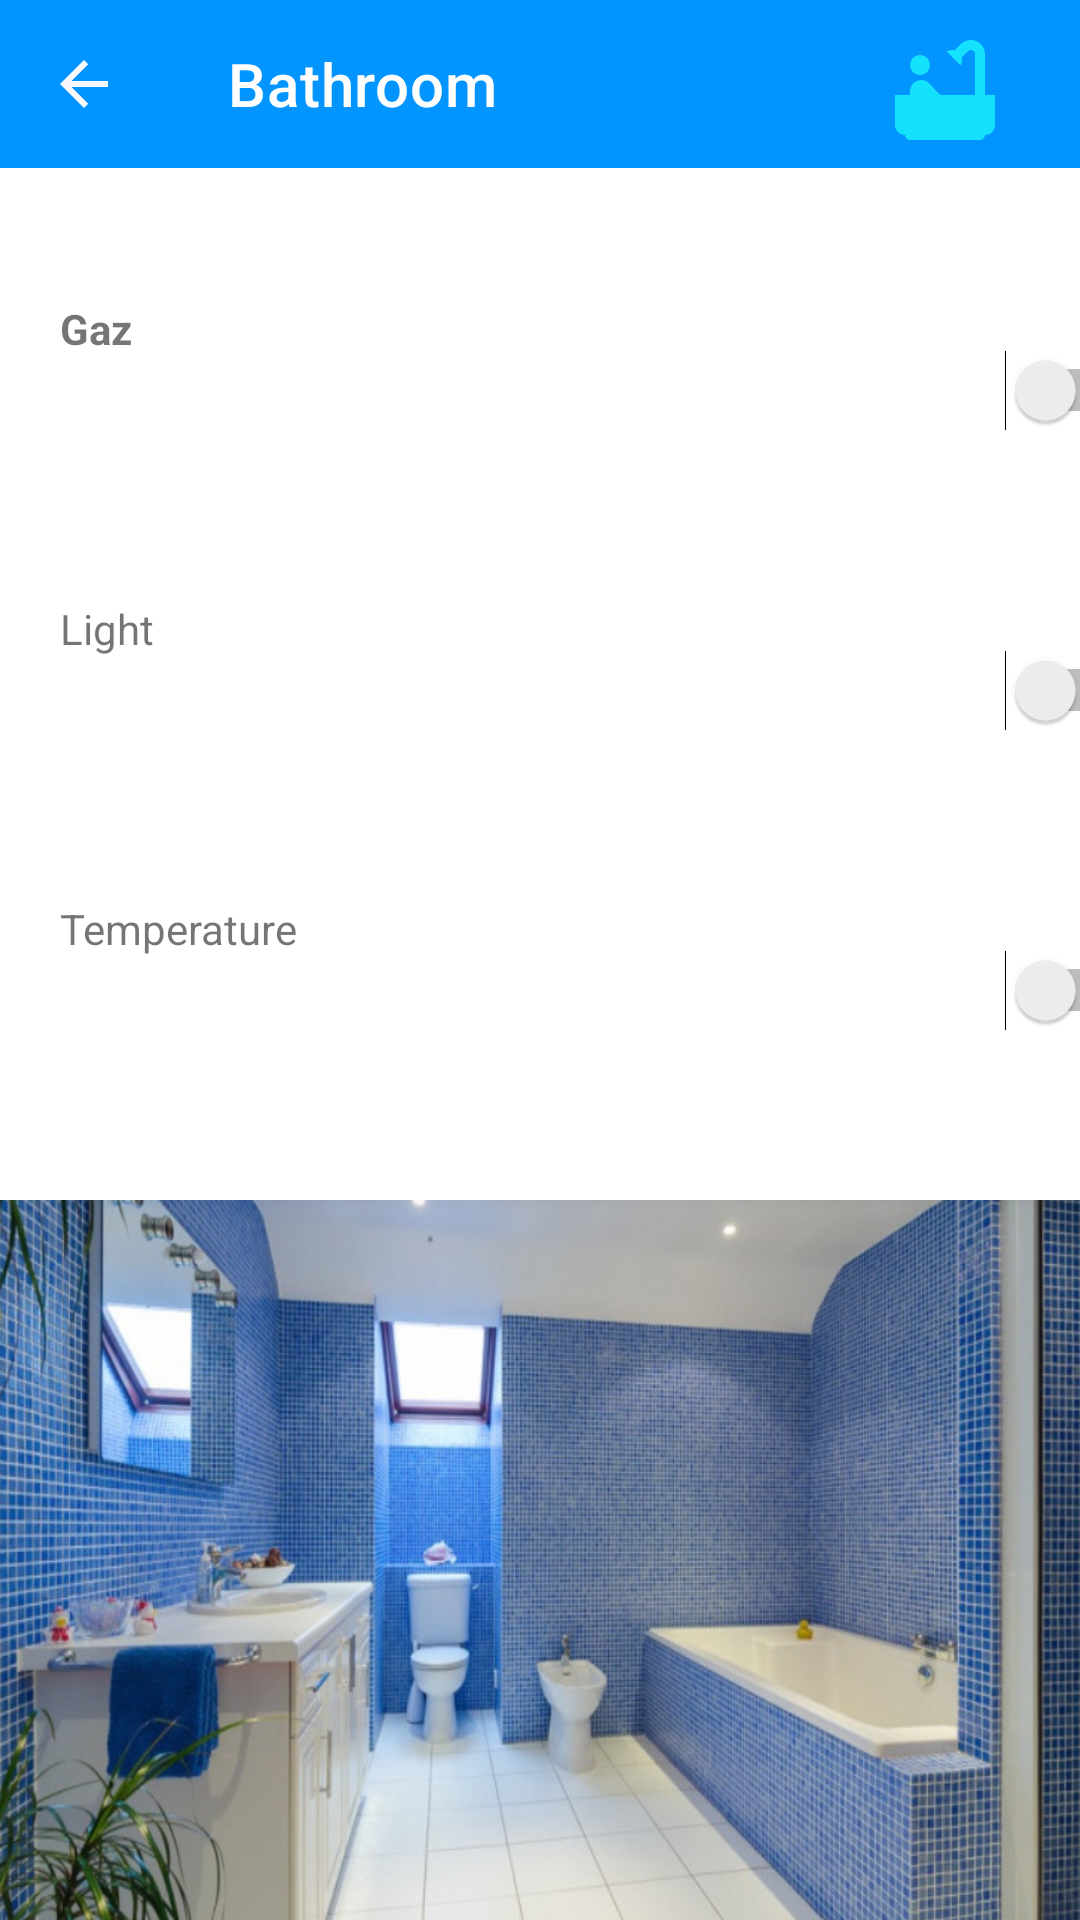

Icon click points for this 1080 × 1920 phone screenshot, format [x,y]:
bathtub: [945,90]
